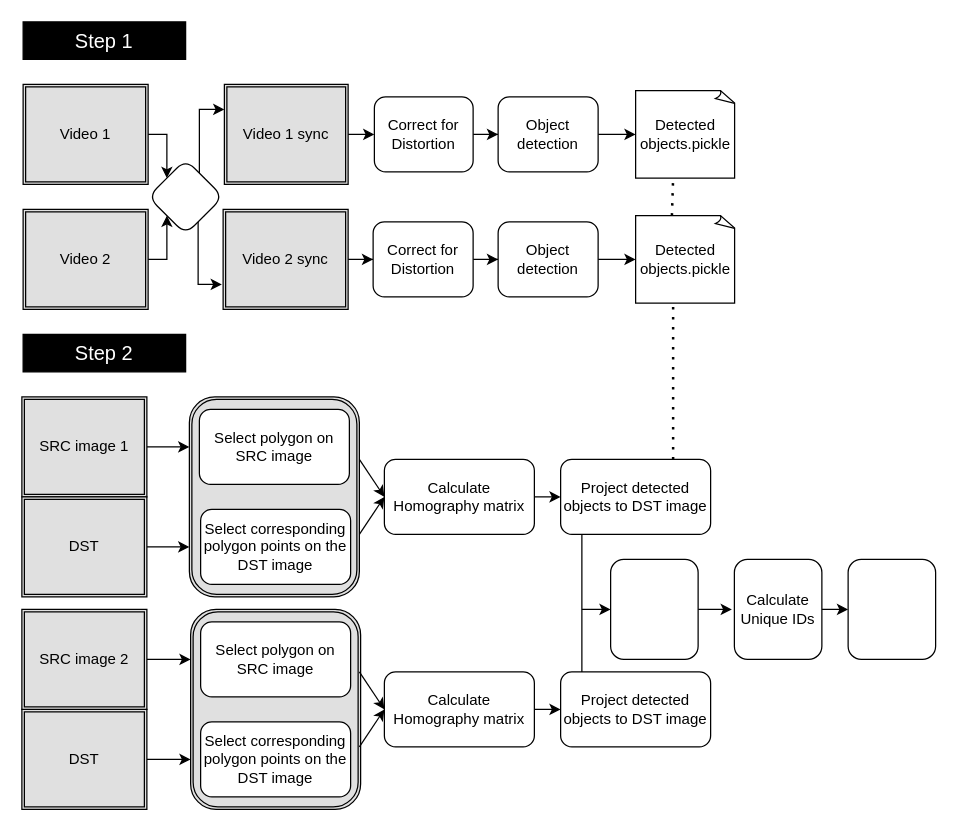
The diagram is 958 pixels wide and 831 high, and some of its shapes have lost their labels. The shapes that lost their labels are listed below. From the top down, each one's centre as x and y in pixels, then its label:
At [185,196]: "Sync".
At [653,608]: "Join".
At [891,608]: "Analysis".
